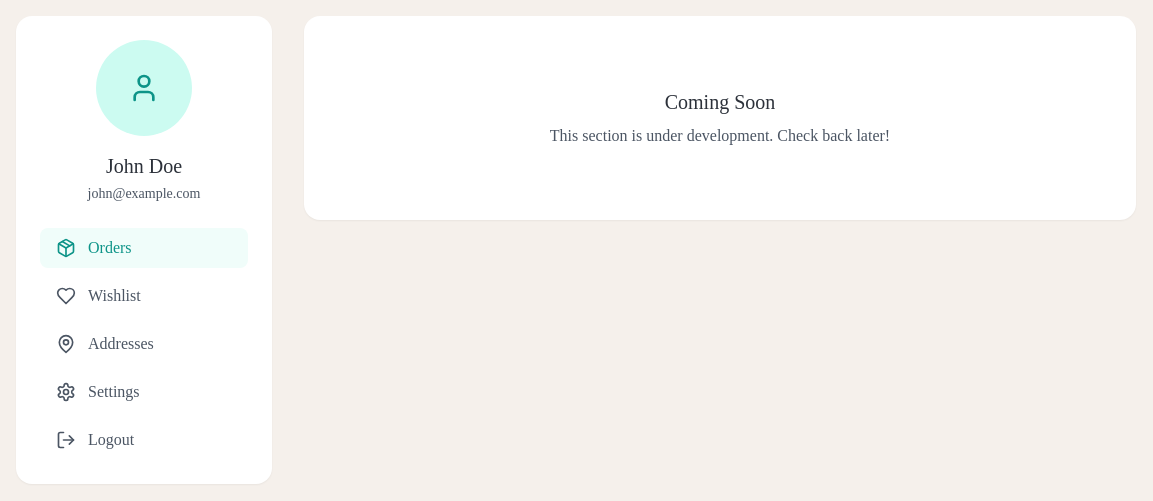
Test: UserProfile › enables form editing when clicking Edit Profile
The image size is (1153, 501).
Click the button "Settings": click(144, 392) [40,372,248,412]
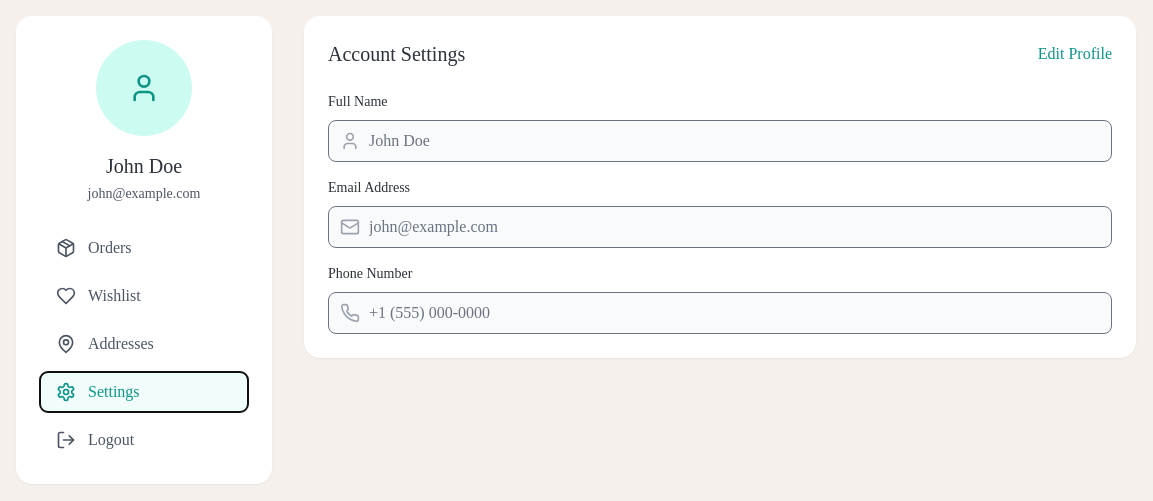
Click the button "Edit Profile": click(1075, 54) [1038,42,1112,66]
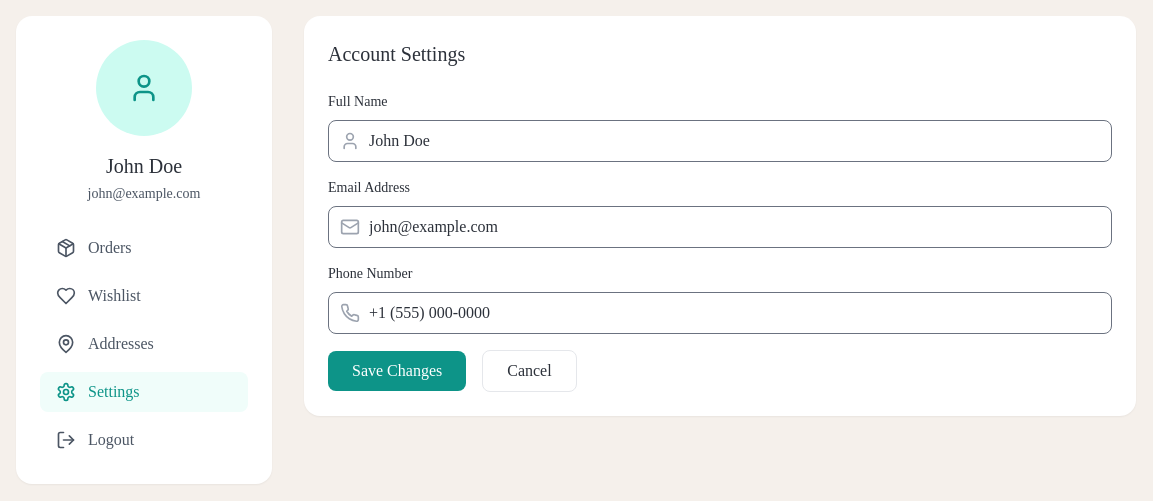
Now the field showing "John Doe" is enabled, box [328,120,1112,162]
Now the field showing "john@example.com" is enabled, box [328,206,1112,248]
Now the field showing "+1 (555) 000-0000" is enabled, box [328,292,1112,334]
